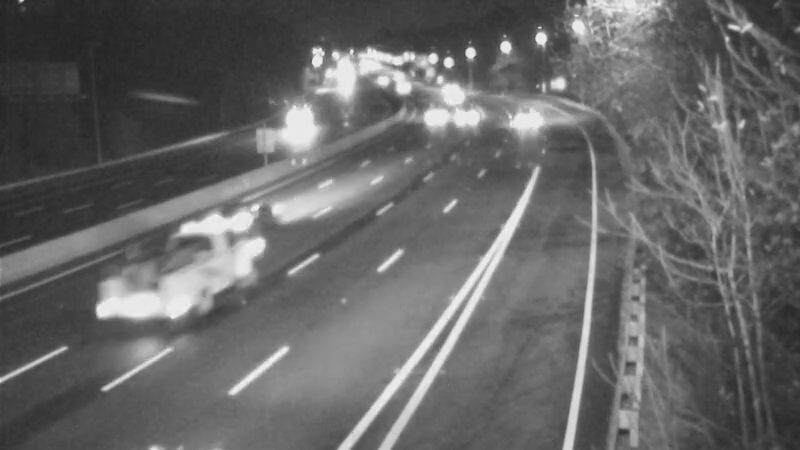vehicle: (176, 178, 256, 258), (156, 245, 236, 325), (406, 81, 456, 131), (436, 90, 486, 140), (496, 88, 546, 138), (270, 101, 320, 151)
